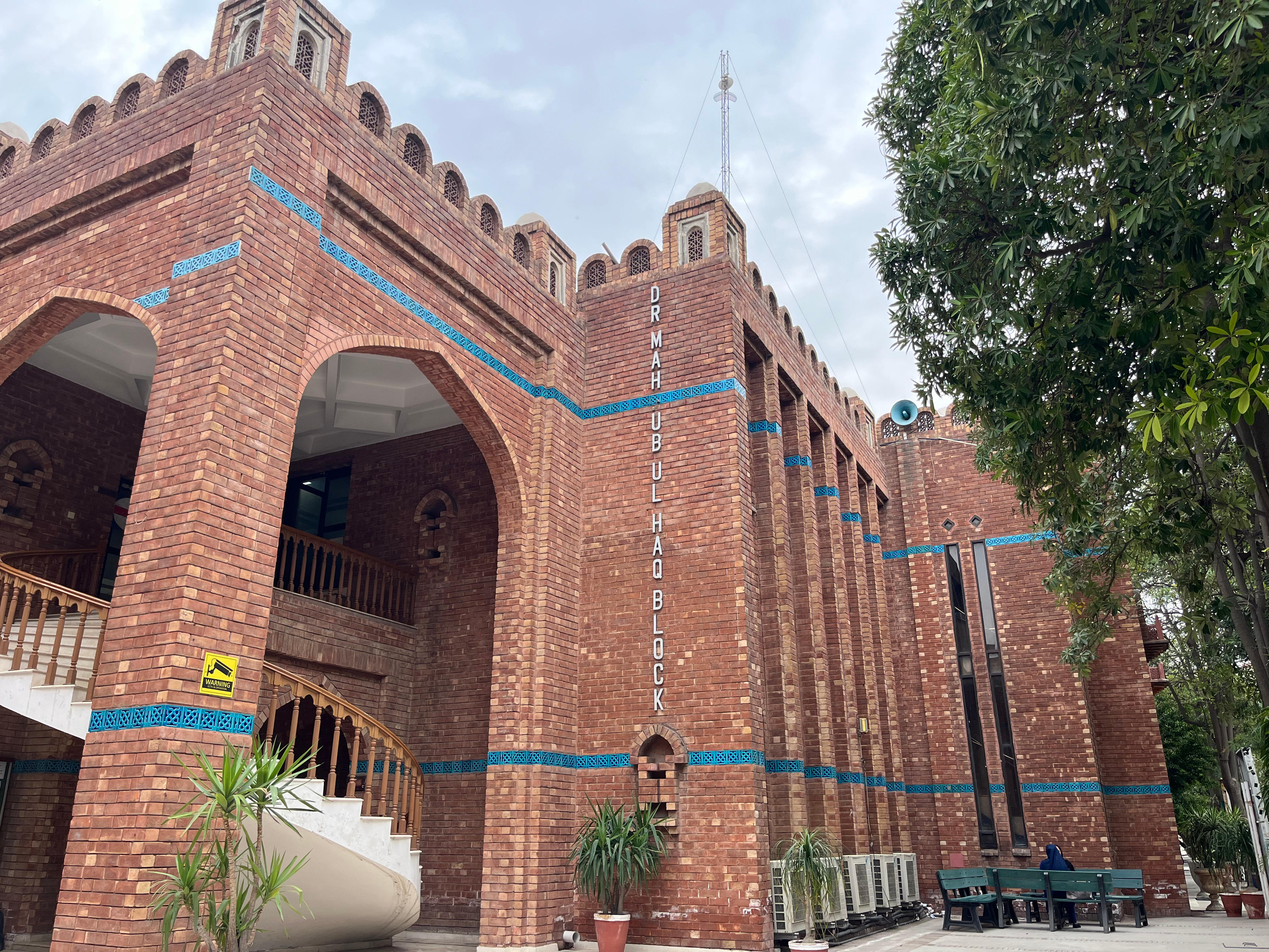Block E: (4, 4, 1193, 951)
